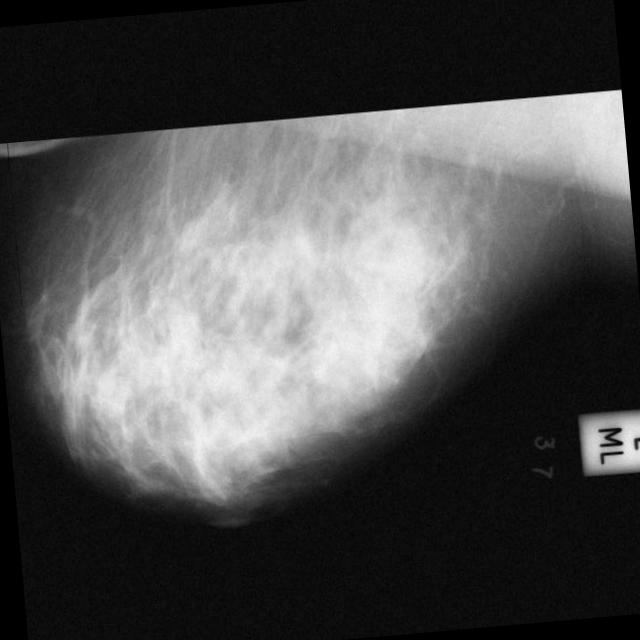ASYM: (308, 184, 458, 334)
